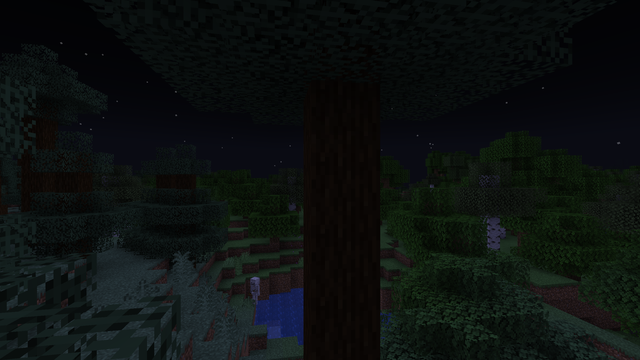squelettes: (250, 276, 258, 305)
